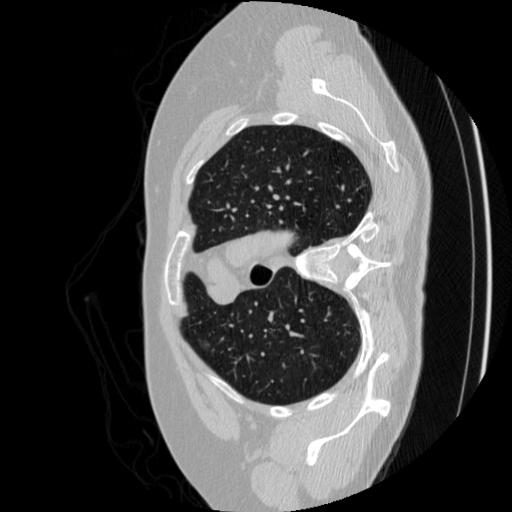nodule: (198, 338, 211, 351)
